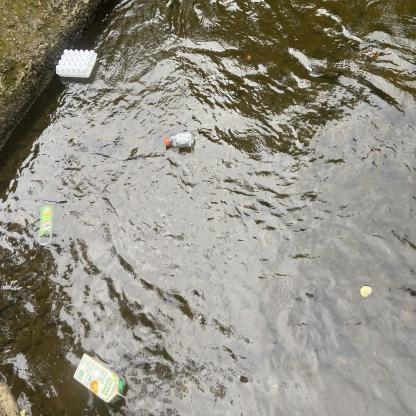trash: (70, 350, 130, 410), (52, 42, 98, 85), (35, 199, 56, 252), (160, 128, 198, 154)
